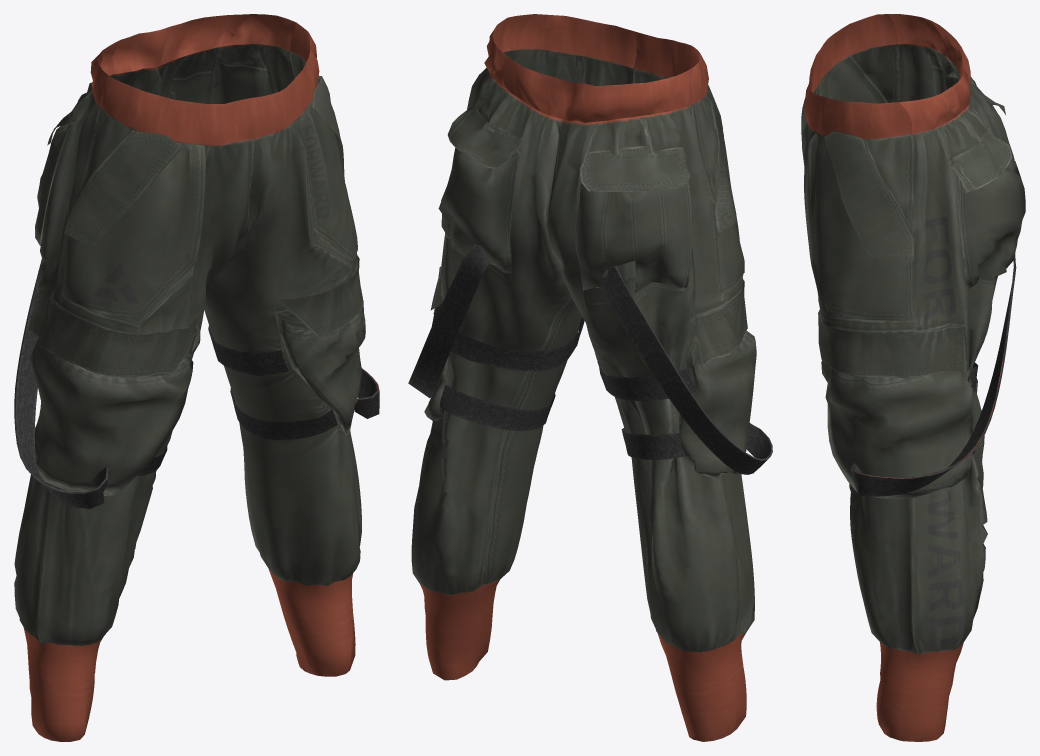
File: full.glb
The picture shows the model from 3 angles, left to right: view 1: azimuth 30°, elevation 25°; view 2: azimuth 150°, elevation 25°; view 3: azimuth 270°, elevation 25°; orthographic projection. The views are drawn at different scales.
Visible parts, largest first — view 1: techtrousers2; view 2: techtrousers2; view 3: techtrousers2.
Boxes of the visible parts, box(x1,y1,x2,y2) form: techtrousers2: box(14, 14, 379, 741); techtrousers2: box(408, 14, 772, 741); techtrousers2: box(801, 14, 1025, 741).
Size of the model in its own units: 1.09 by 2 by 0.6588.
Materials: 1 (1 with a texture image).
